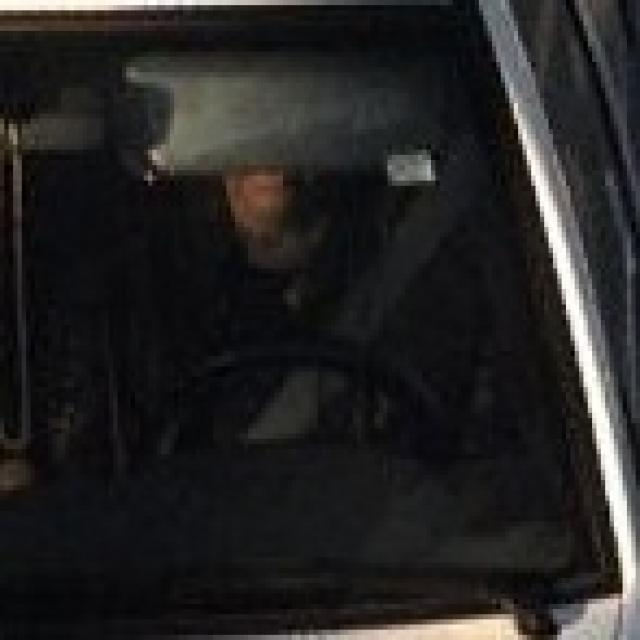seatbelt: (296, 150, 501, 398)
